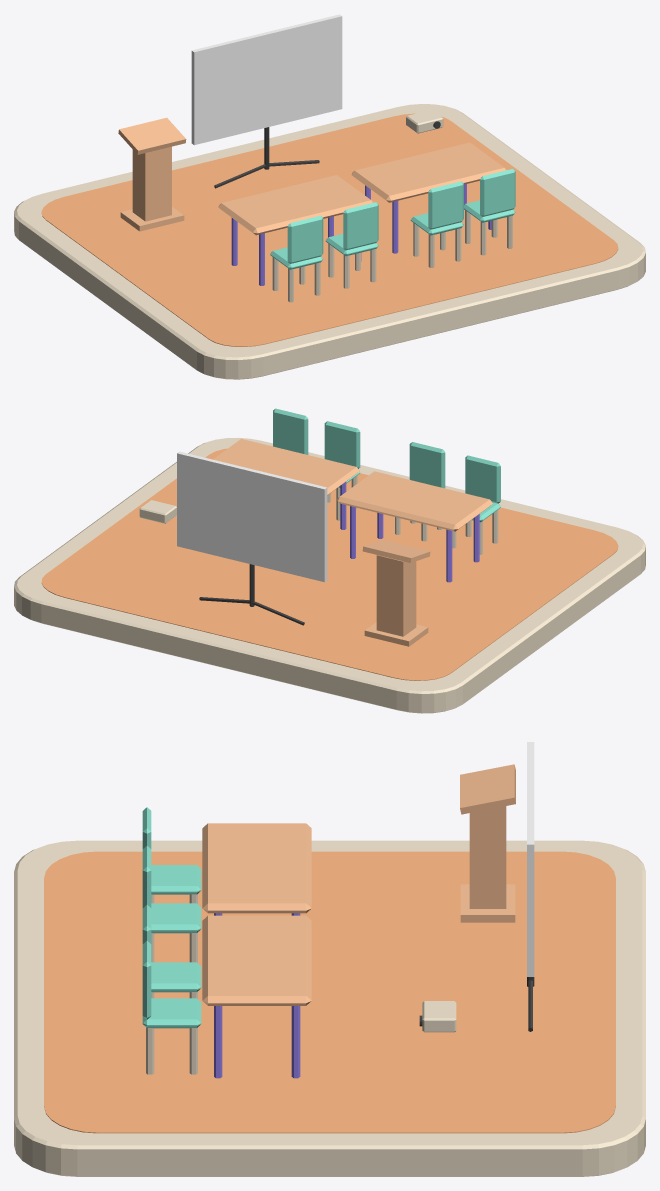
The model's file is room.fbx.
3 renders of one model, top to bottom at view 1: azimuth 30°, elevation 25°; view 2: azimuth 150°, elevation 25°; view 3: azimuth 270°, elevation 25°, orthographic. The views are drawn at different scales.
Visible parts, largest first — view 1: COM-02 Floor Surface, COM-01 Rounded Base Direct, Screen, Rounded table top.001, Rounded table top, Body, Reading top, Backrest, Backrest.003, Backrest.001, Backrest.002, Foot (+1 smaller); view 2: COM-02 Floor Surface, COM-01 Rounded Base Direct, Screen, Rounded table top, Rounded table top.001, Body, Backrest.002, Backrest.001, Backrest, Backrest.003, Reading top, Foot (+1 smaller); view 3: COM-02 Floor Surface, COM-01 Rounded Base Direct, Rounded table top, Rounded table top.001, Body, Reading top, Screen, Seat.003, Seat.002, Seat.001, Seat, Foot (+4 smaller).
Boxes of the visible parts, <box> form: COM-02 Floor Surface: <box>41,113,618,346</box>; COM-01 Rounded Base Direct: <box>14,104,645,379</box>; Screen: <box>191,14,342,145</box>; Rounded table top.001: <box>351,142,506,202</box>; Rounded table top: <box>218,175,373,235</box>; Body: <box>132,146,171,221</box>; Reading top: <box>118,117,186,154</box>; Backrest: <box>287,215,323,263</box>; Backrest.003: <box>480,169,515,216</box>; Backrest.001: <box>343,202,378,250</box>; Backrest.002: <box>428,181,463,229</box>; Foot: <box>120,206,184,231</box>; COM-02 Floor Surface: <box>41,448,618,680</box>; COM-01 Rounded Base Direct: <box>14,437,645,713</box>; Screen: <box>177,451,327,582</box>; Rounded table top: <box>336,471,492,531</box>; Rounded table top.001: <box>213,439,359,494</box>; Body: <box>376,555,416,636</box>; Backrest.002: <box>324,421,360,468</box>; Backrest.001: <box>409,442,445,488</box>; Backrest: <box>465,455,500,503</box>; Backrest.003: <box>273,408,308,454</box>; Reading top: <box>362,540,430,562</box>; Foot: <box>364,622,428,646</box>; COM-02 Floor Surface: <box>44,851,615,1133</box>; COM-01 Rounded Base Direct: <box>14,840,645,1176</box>; Rounded table top: <box>202,823,311,913</box>; Rounded table top.001: <box>202,915,311,1005</box>; Body: <box>469,806,506,908</box>; Reading top: <box>460,764,515,814</box>; Screen: <box>527,742,534,976</box>; Seat.003: <box>142,998,201,1028</box>; Seat.002: <box>151,962,201,992</box>; Seat.001: <box>151,903,201,933</box>; Seat: <box>151,865,201,894</box>; Foot: <box>460,884,515,922</box>.
Bounding box in the file's own units: 600 × 215 × 520.
